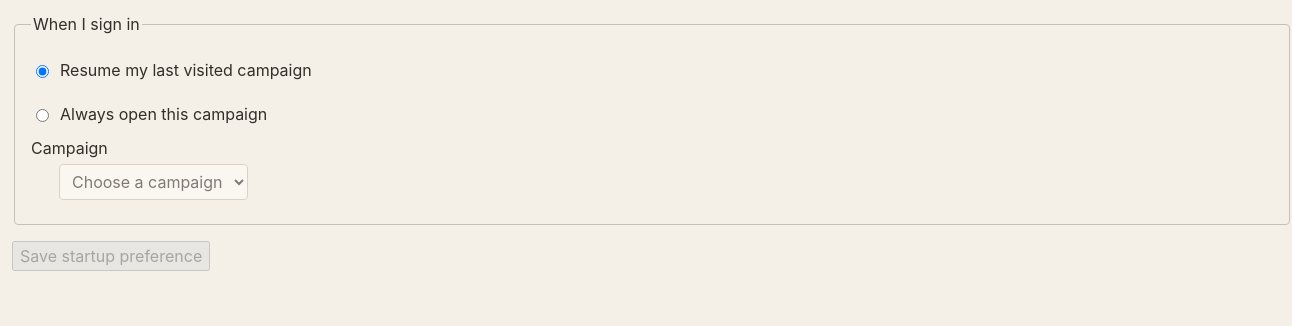
Test: CampaignStartupForm choosing and saving › saves the chosen campaign, reports success, and treats it as the new baseline
Click the radio button labelled "Always open this campaign" at coordinates (42, 116), box [36,109,49,122]
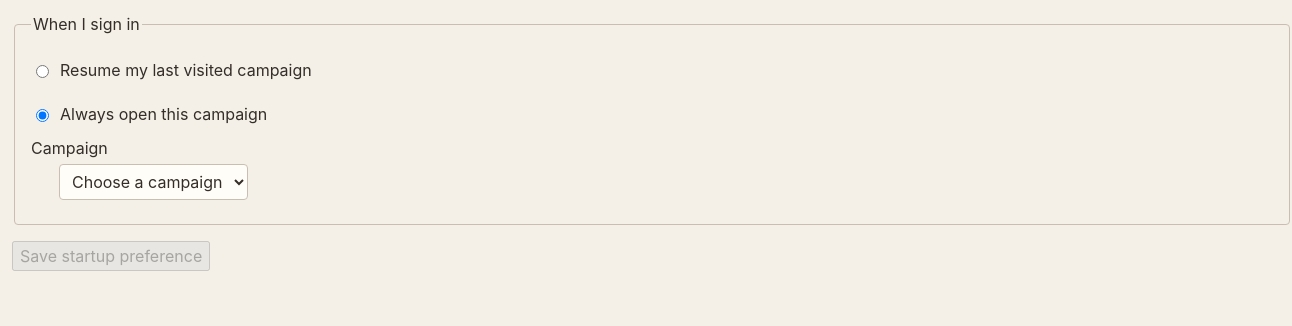
Select "Beta Campaign" in the dropdown labelled "Campaign" at coordinates (154, 182), box [59,164,248,200]
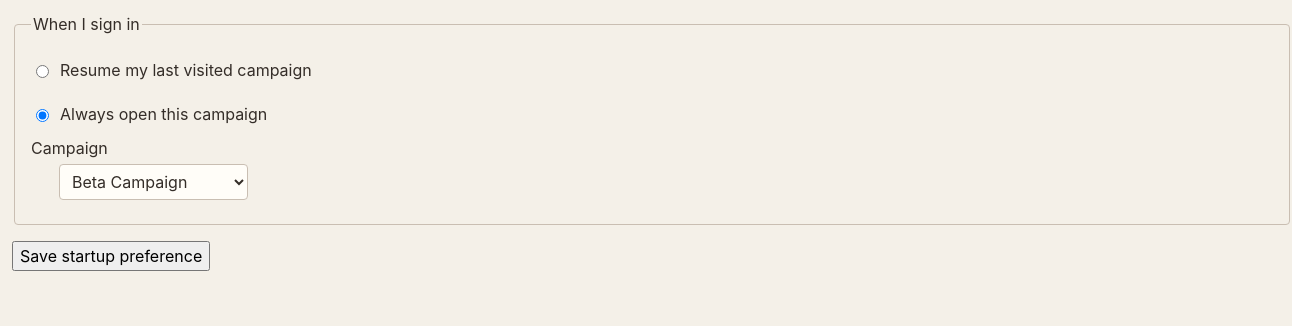
Click the button "Save startup preference" at coordinates (111, 256), box [12,241,210,271]
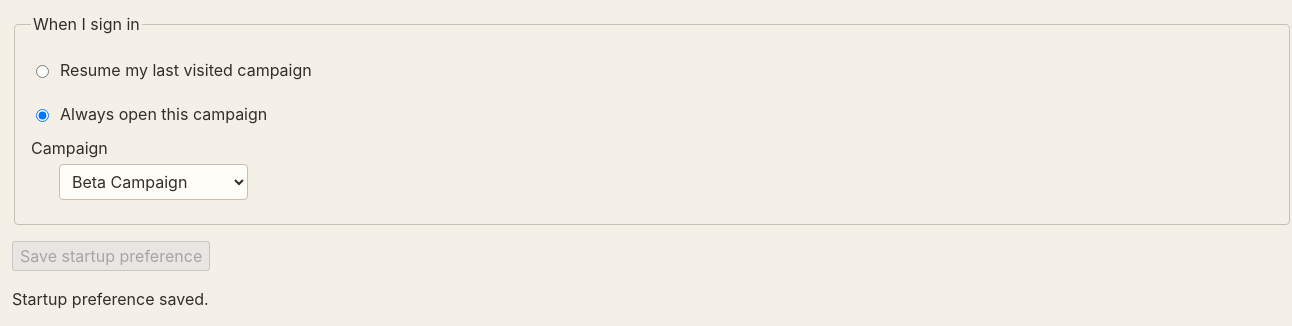
expect the radio button labelled "Always open this campaign" is checked: met, box [36,109,49,122]
expect the message reads "Startup preference saved.": met, box [12,289,209,309]
expect the button "Save startup preference" is disabled: met, box [12,241,210,271]
